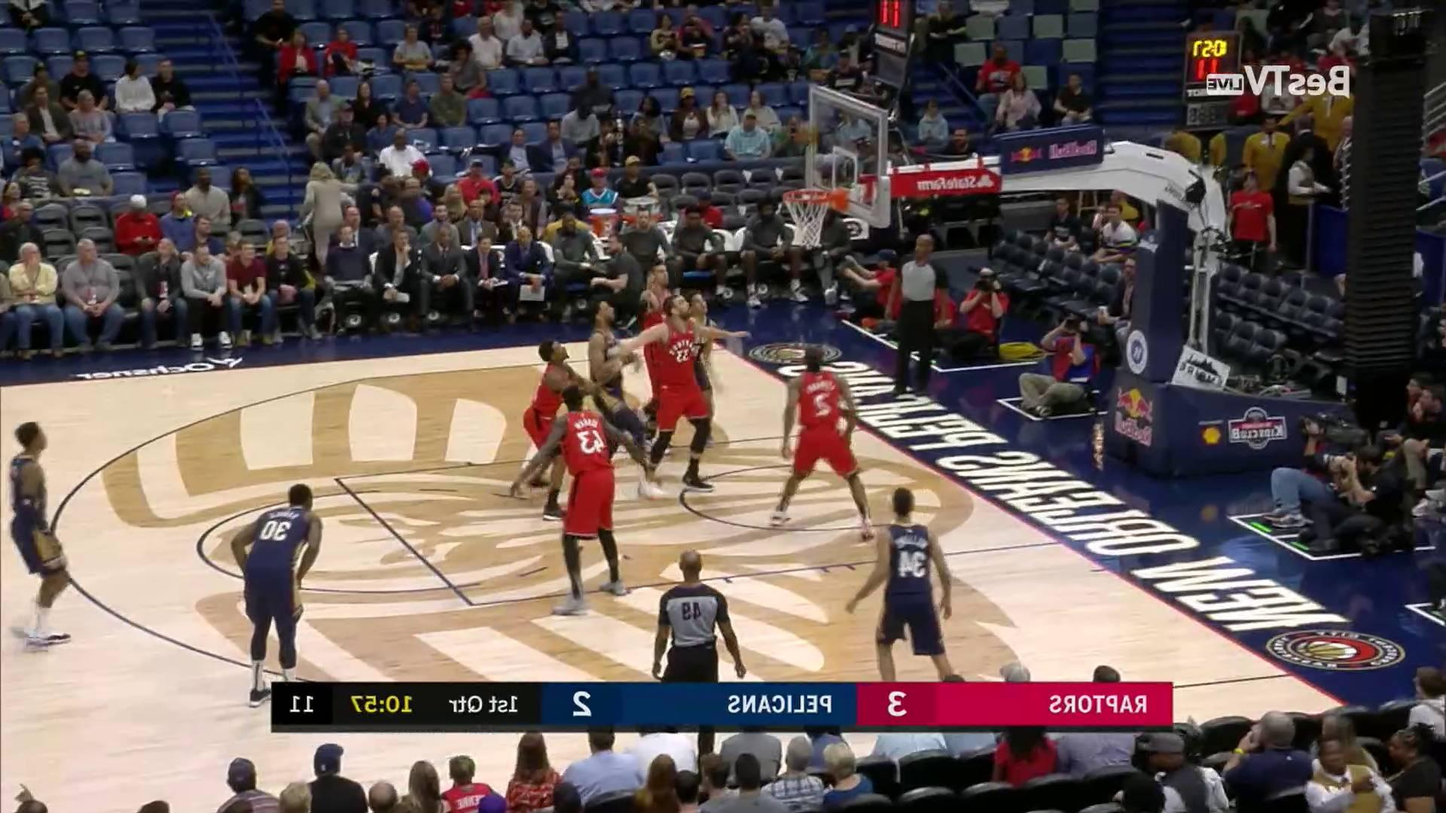basketball: (794, 120, 819, 148)
